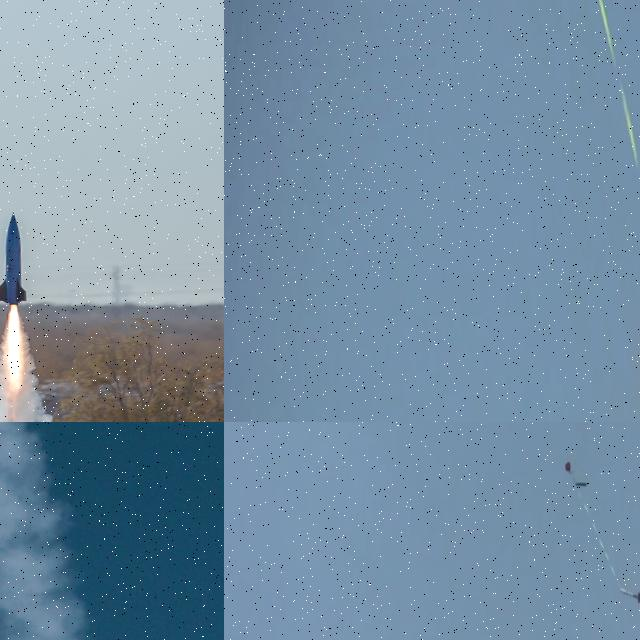Rocket: (0, 211, 29, 307), (619, 587, 640, 603)
